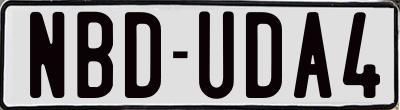4: (341, 11, 379, 101)
A: (291, 10, 335, 100)
B: (75, 12, 111, 102)
D: (122, 10, 164, 102), (245, 9, 283, 98)
N: (27, 9, 67, 100)
U: (196, 9, 235, 100)
